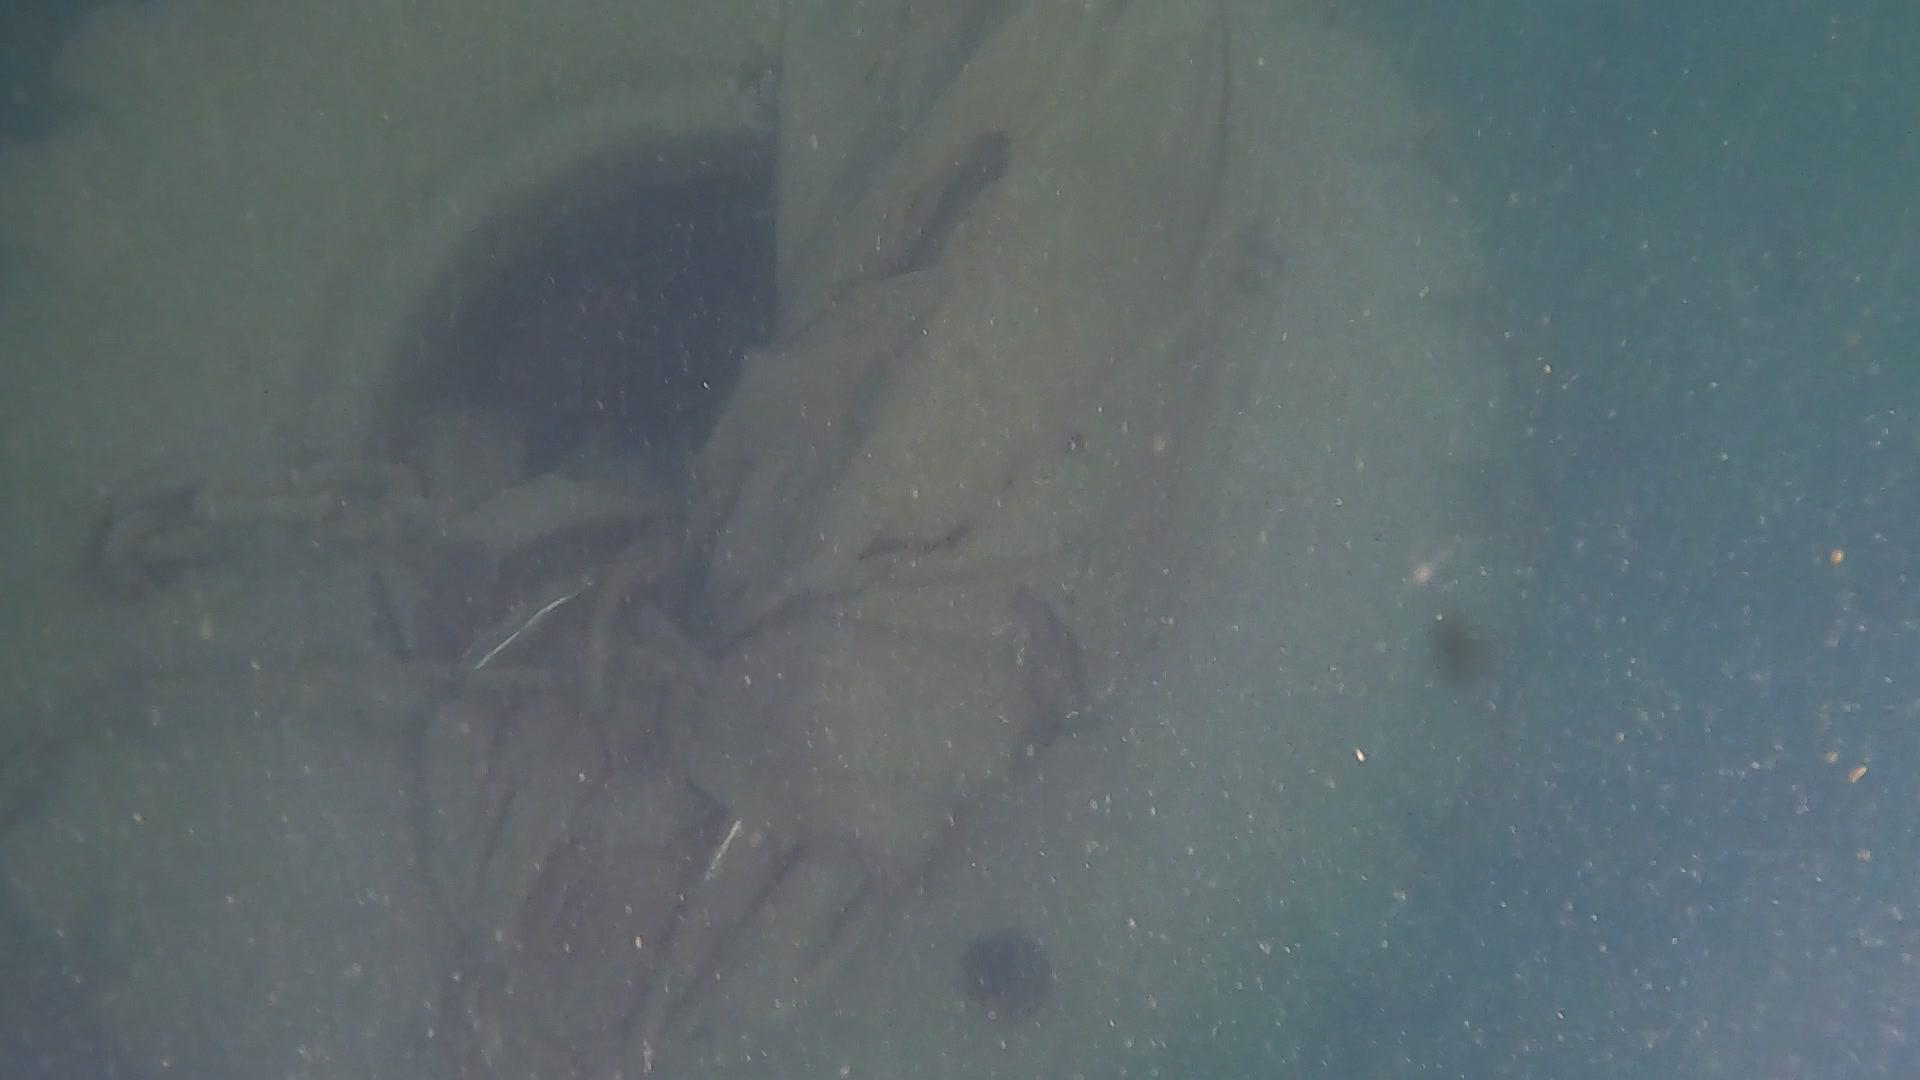tire: (3, 0, 1518, 1080)
